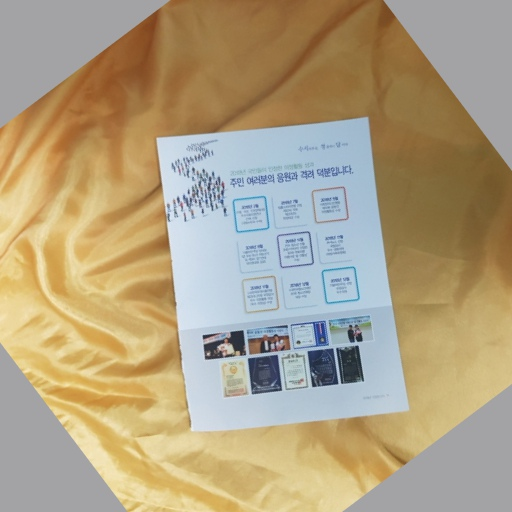Paper_2: (145, 113, 421, 437)
